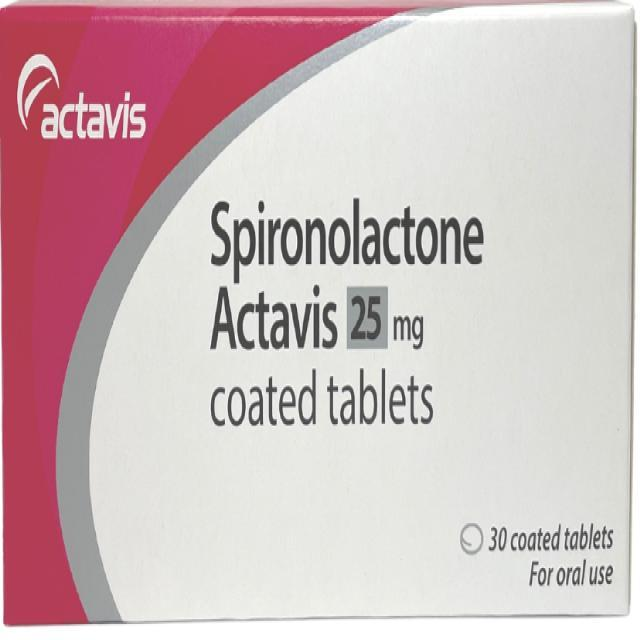drug-name: (207, 186, 488, 284)
